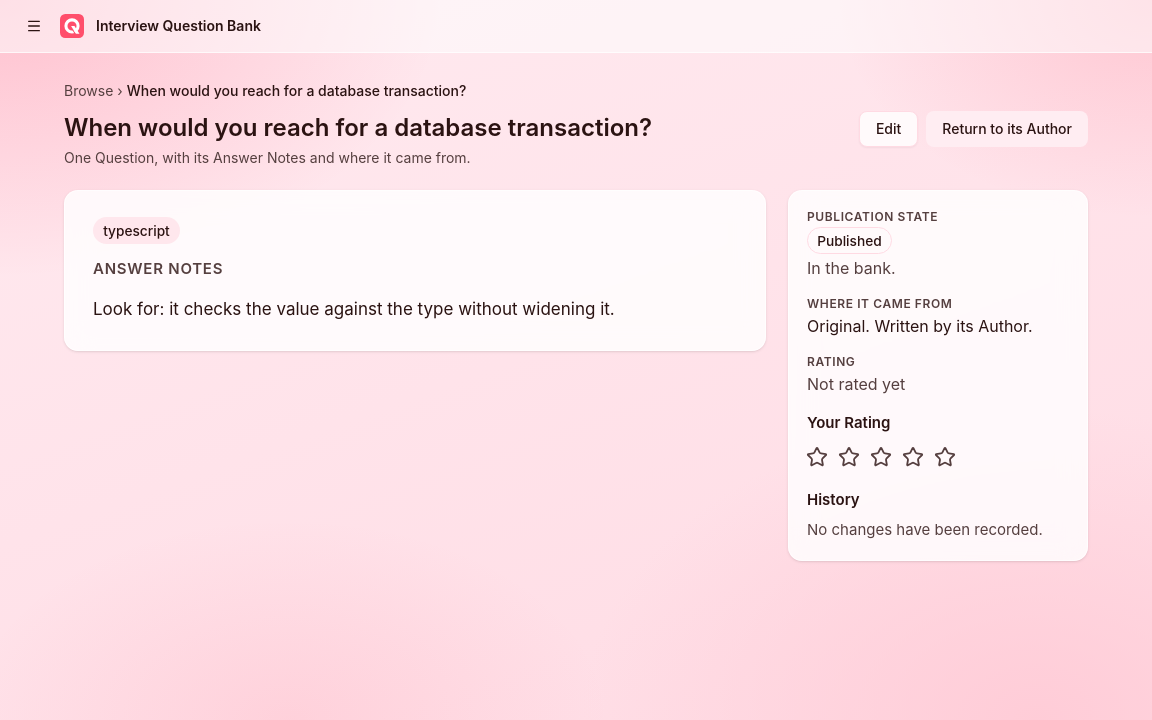
Scenario: returning a Published Question to its Author › reports the API's refusal in its own words
Click the button "Return to its Author". click: (1007, 129)
box: [926,111,1088,147]
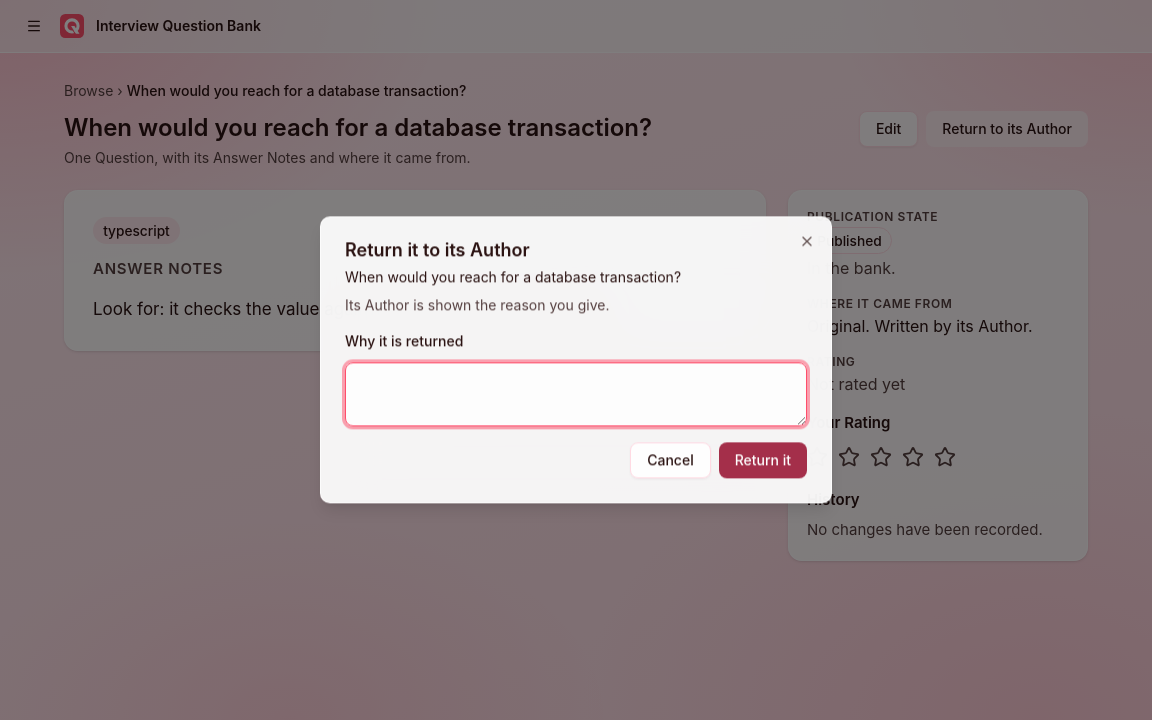
Type "It reads badly." into the text box labelled "Why it is returned". click: (576, 395)
box: [345,363,807,427]
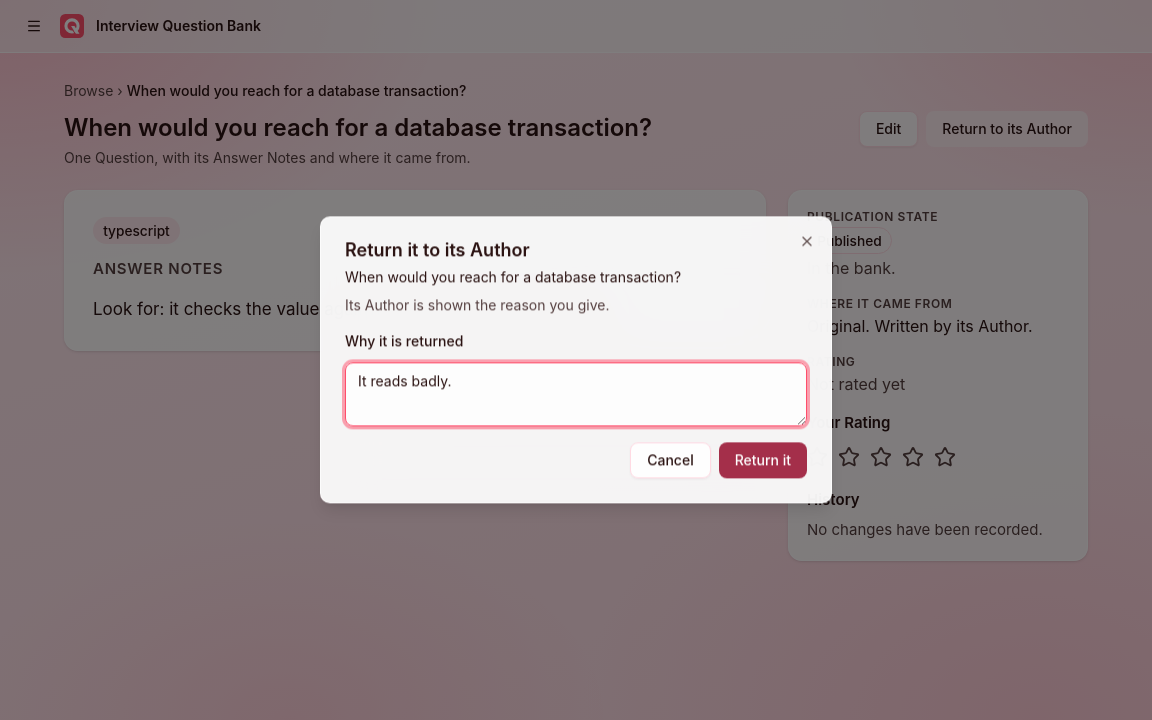
Click the button "Return it". click: (763, 461)
box: [719,443,807,479]
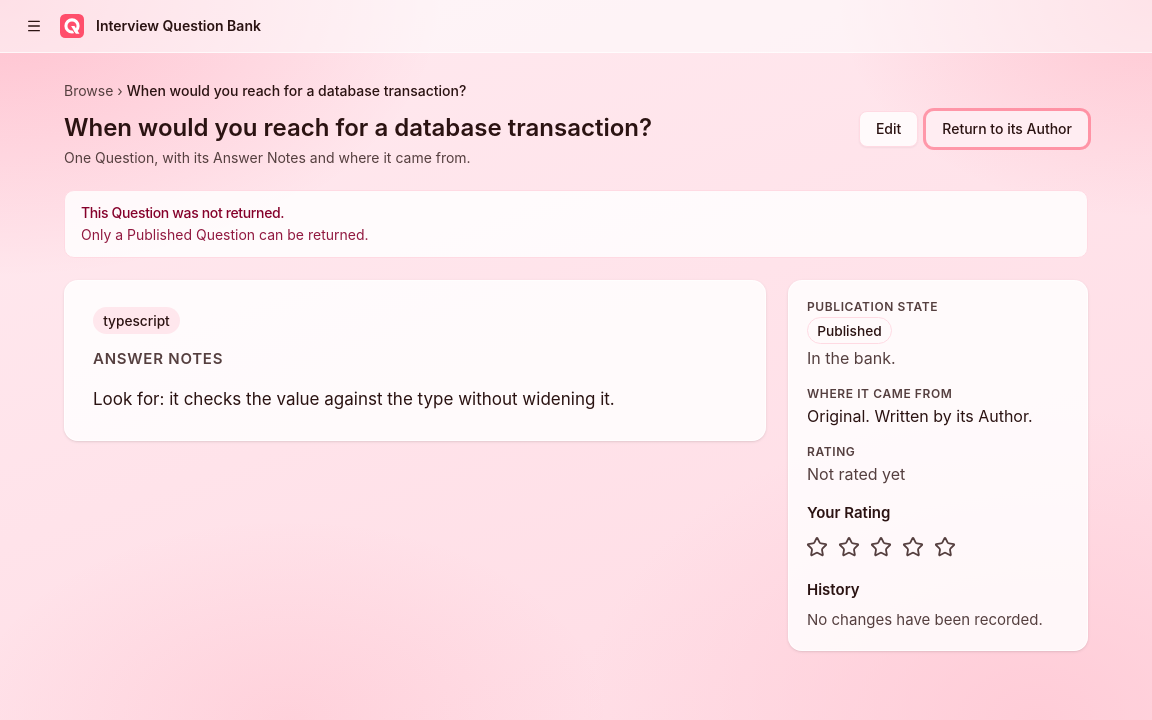
Now the text "This Question was not returned." is shown, box [81,204,284,221]
Now the text "Only a Published Question can be returned." is shown, box [81,226,368,243]
Now the dialog is gone
